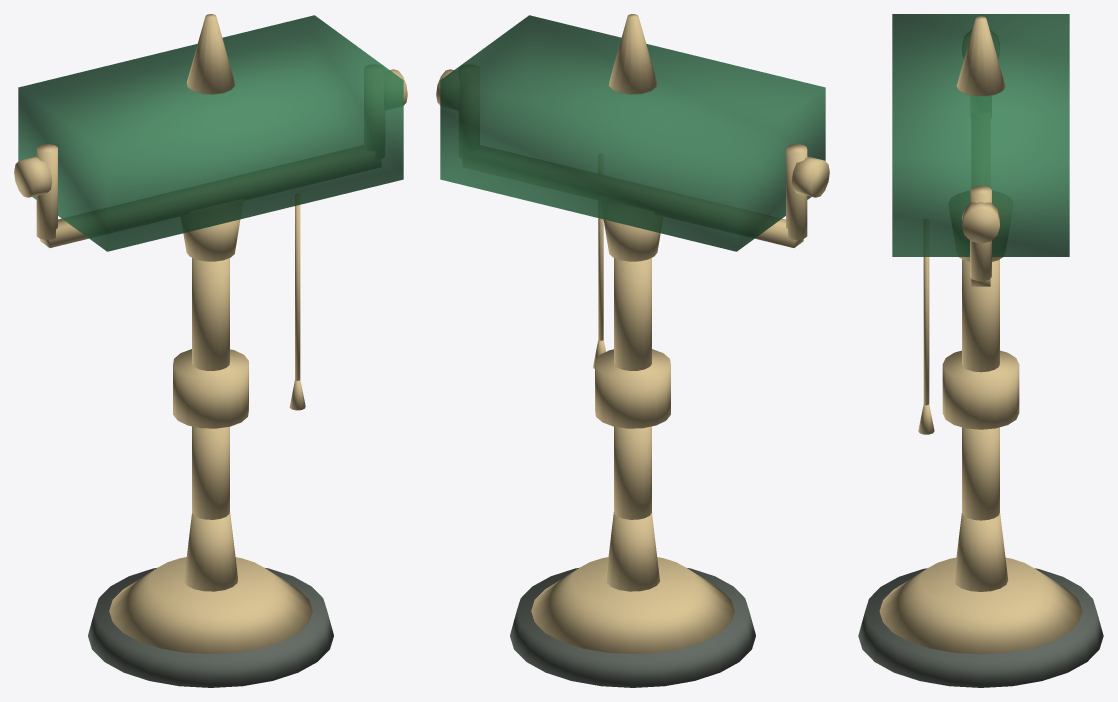
Rendered from SM_Light_TableLamp_01.glb.
3 views of the same model, side by side, from view 1: azimuth 30°, elevation 25°; view 2: azimuth 150°, elevation 25°; view 3: azimuth 270°, elevation 25° (orthographic).
Visible parts, largest first — view 1: SM_Light_TableLamp_01; view 2: SM_Light_TableLamp_01; view 3: SM_Light_TableLamp_01.
Part boxes in pixels (bbox=[...]): SM_Light_TableLamp_01: bbox=[14, 14, 407, 687]; SM_Light_TableLamp_01: bbox=[436, 14, 829, 687]; SM_Light_TableLamp_01: bbox=[858, 14, 1103, 687].
Size of the model in its own units: 0.316 by 0.4995 by 0.18.
